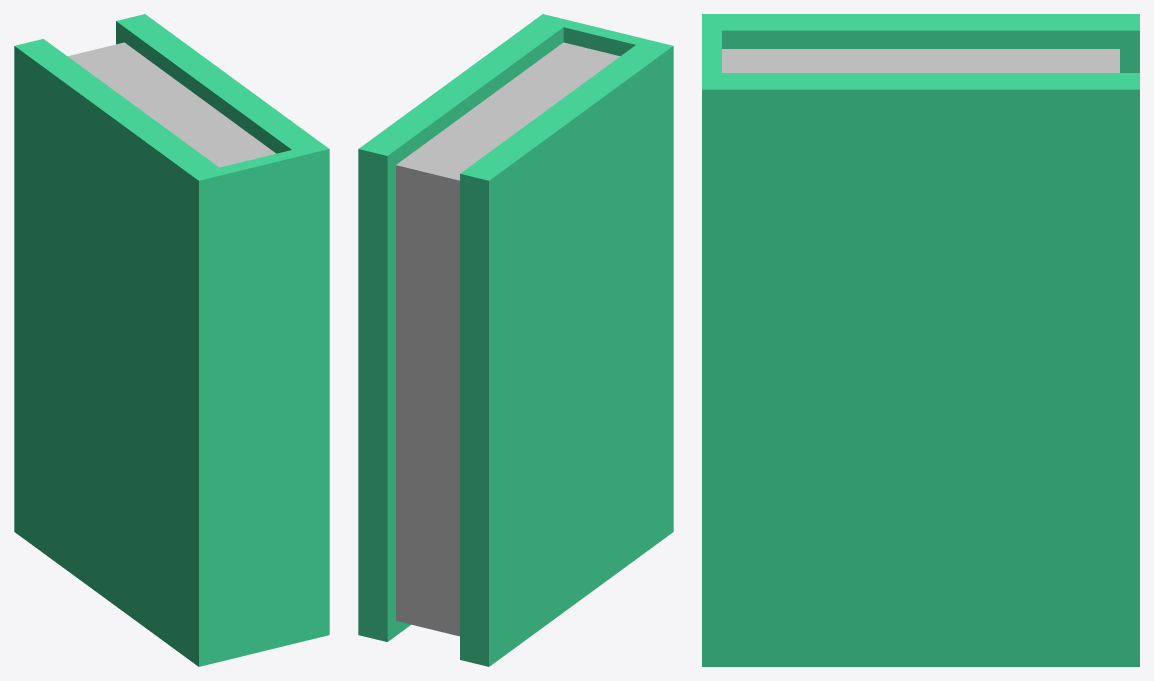
The model's file is TealBook.fbx.
The picture shows the model from 3 angles, left to right: view 1: azimuth 30°, elevation 25°; view 2: azimuth 150°, elevation 25°; view 3: azimuth 270°, elevation 25°; orthographic projection. The views are drawn at different scales.
Visible parts, largest first — view 1: TealBook; view 2: TealBook; view 3: TealBook.
Boxes of the visible parts, bbox=[...] form: TealBook: bbox=[14, 14, 329, 666]; TealBook: bbox=[358, 14, 673, 666]; TealBook: bbox=[702, 14, 1139, 666].
Size of the model in its own units: 9 by 32 by 22.
1 material, 1 textured.
